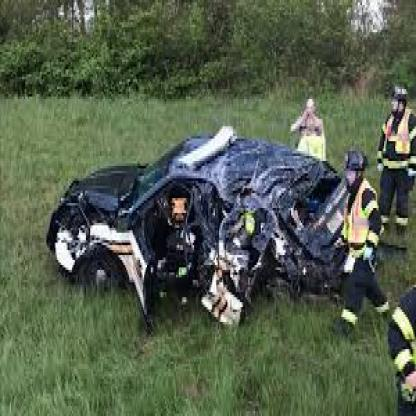accident: (37, 130, 374, 336)
